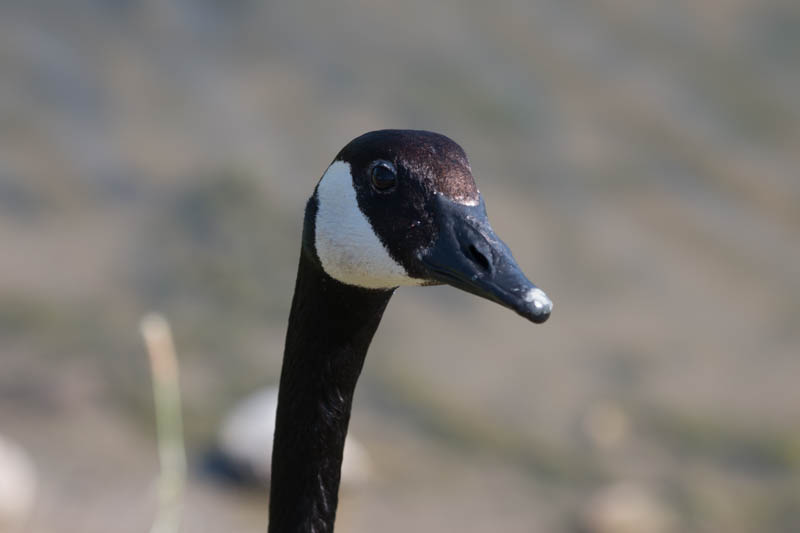goose-head: (295, 127, 555, 324)
